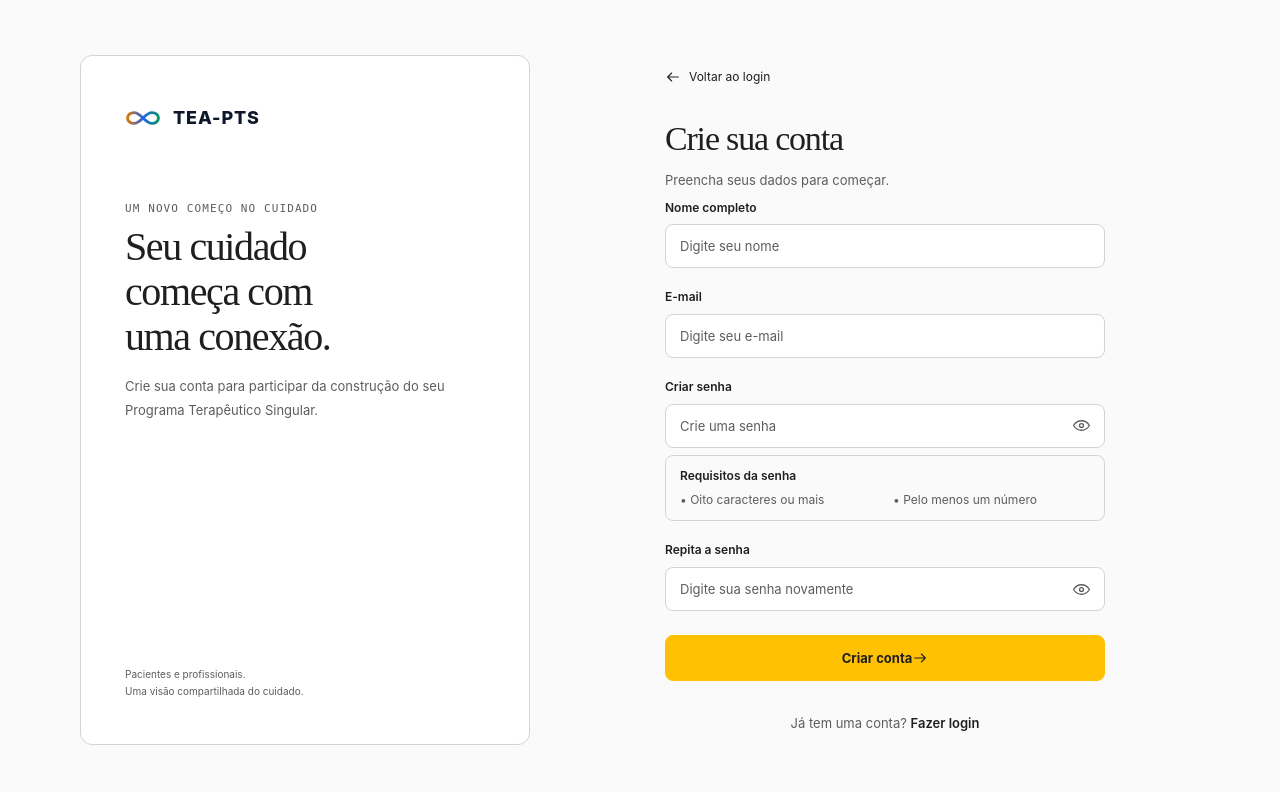
Test: SignupPage › avisa quando as senhas não coincidem
Type "Priscila Martins" into the field labelled "Nome completo" at [885, 246], box [665,224,1105,268]
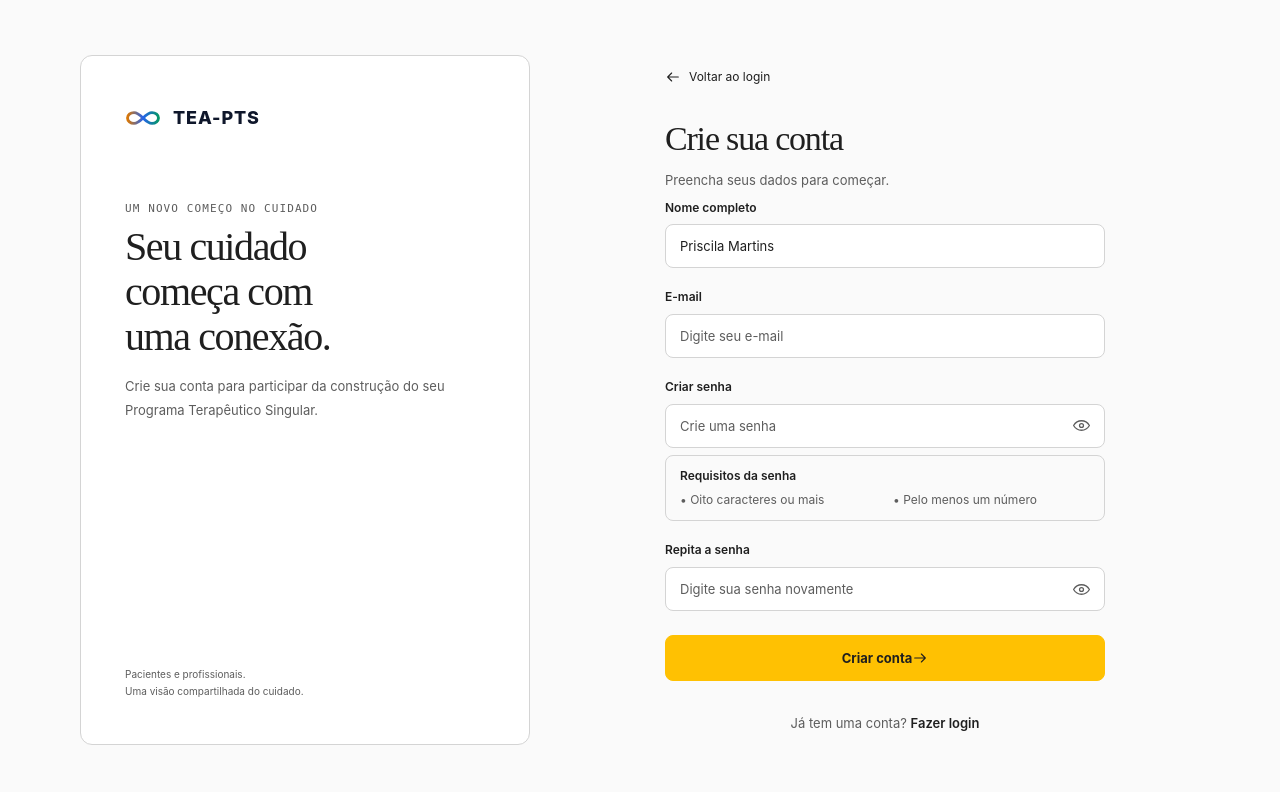
Type "priscila@example.com" into the field labelled "E-mail" at [885, 336], box [665,314,1105,358]
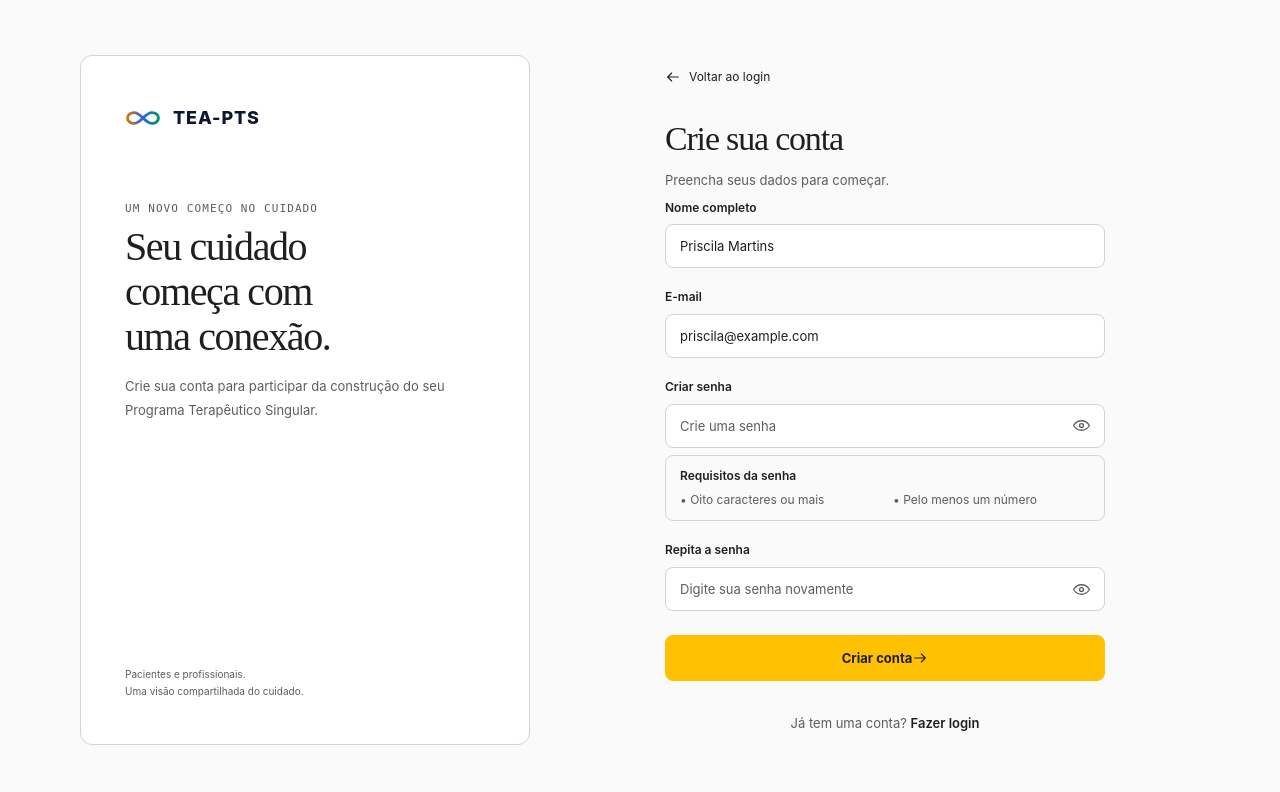
Type "teapts123" into the password field labelled "Criar senha" at [885, 426], box [665,404,1105,448]
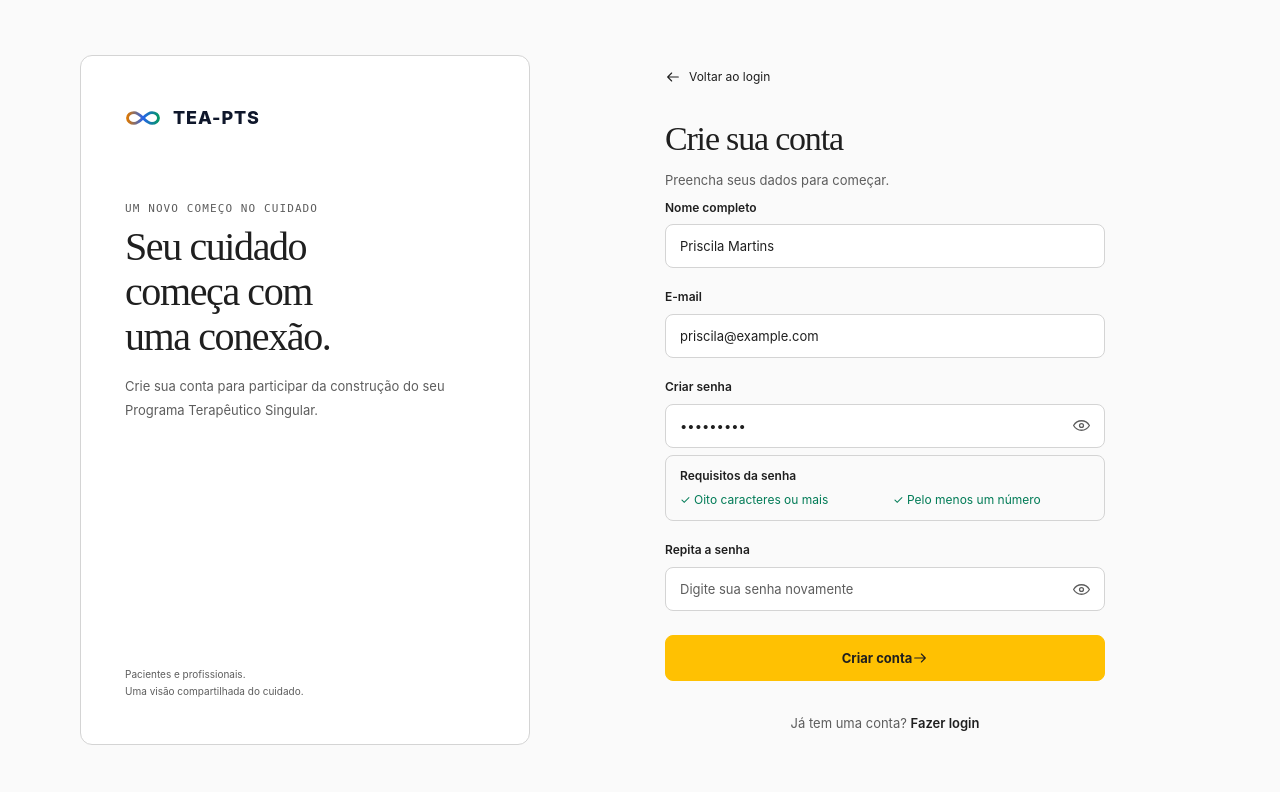
Type "teapts124" into the password field labelled "Repita a senha" at [885, 589], box [665,567,1105,611]
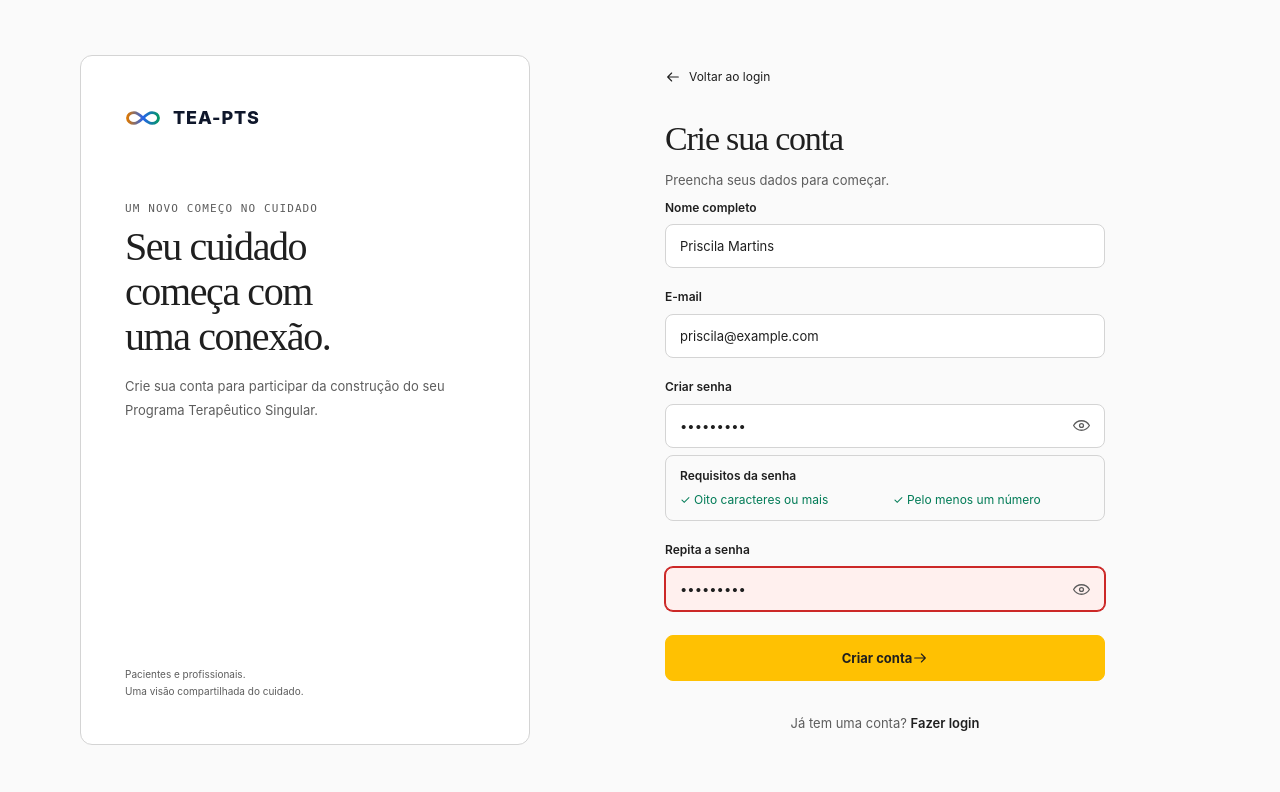
Click the button "Criar conta" at [885, 658], box [665,635,1105,681]
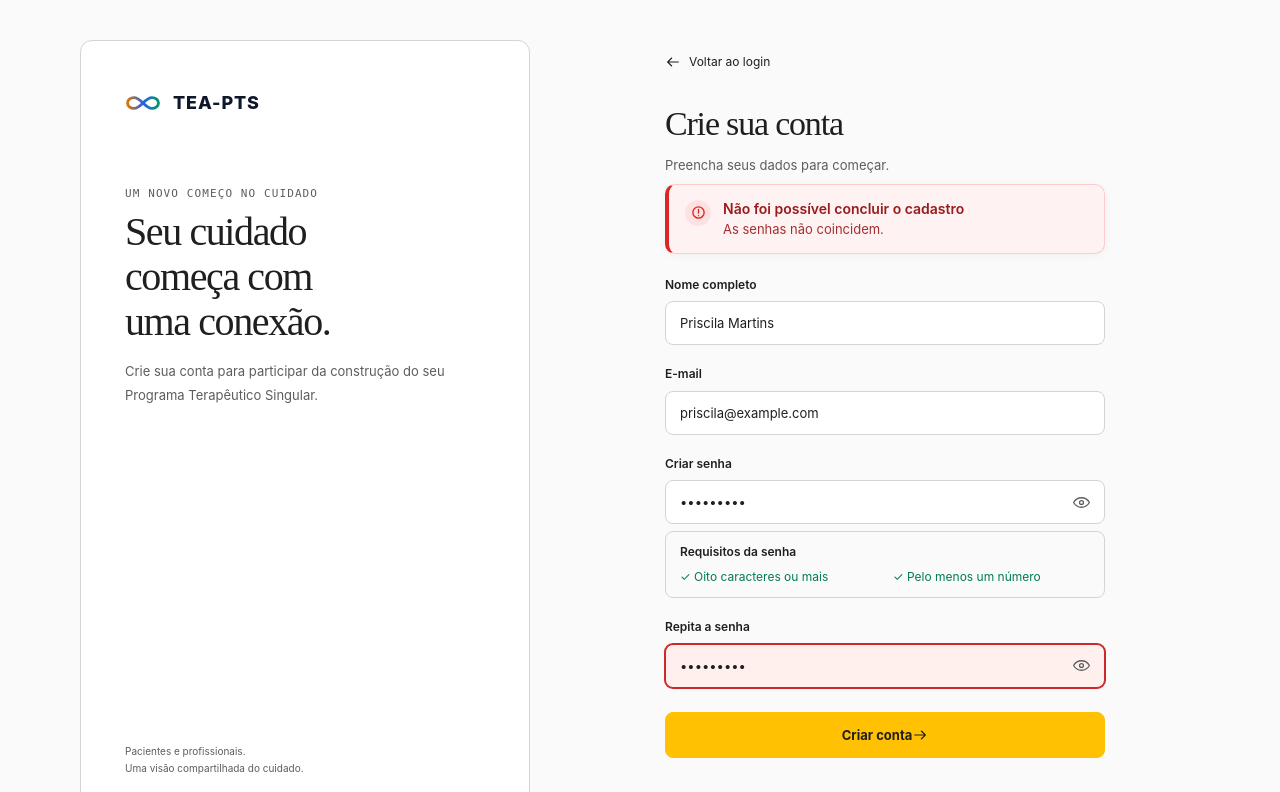
Expected: the message shows "As senhas não coincidem.", [723,222,884,238]
